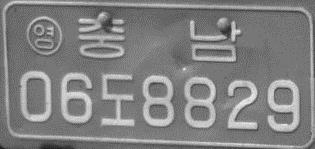0: (19, 69, 52, 123)
2: (225, 79, 259, 130)
6: (60, 71, 92, 125)
8: (183, 75, 216, 130), (142, 74, 174, 126)
9: (266, 79, 301, 133)
도: (100, 73, 136, 128)
영: (25, 14, 63, 55)
충남_D: (76, 13, 242, 63)
